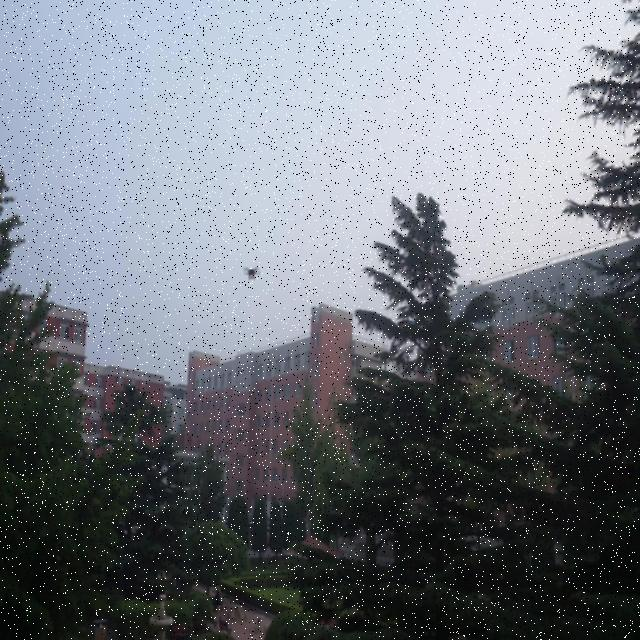UAV: (243, 267, 261, 281)
